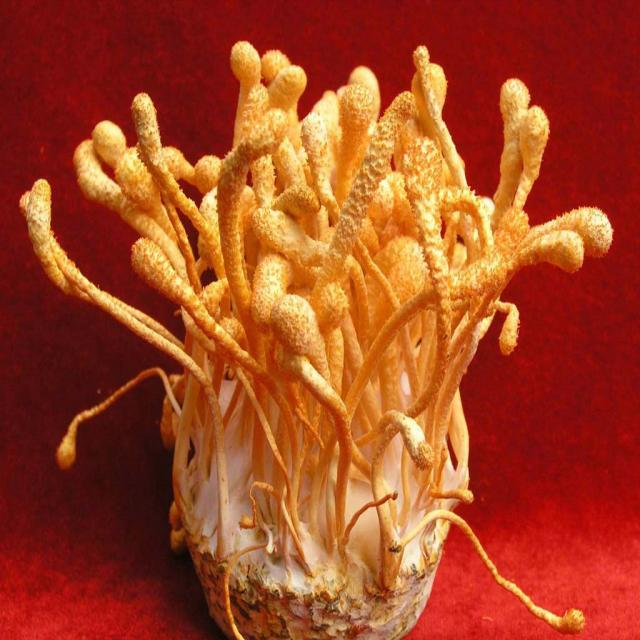Cordyceps militaris: (21, 46, 611, 640)
